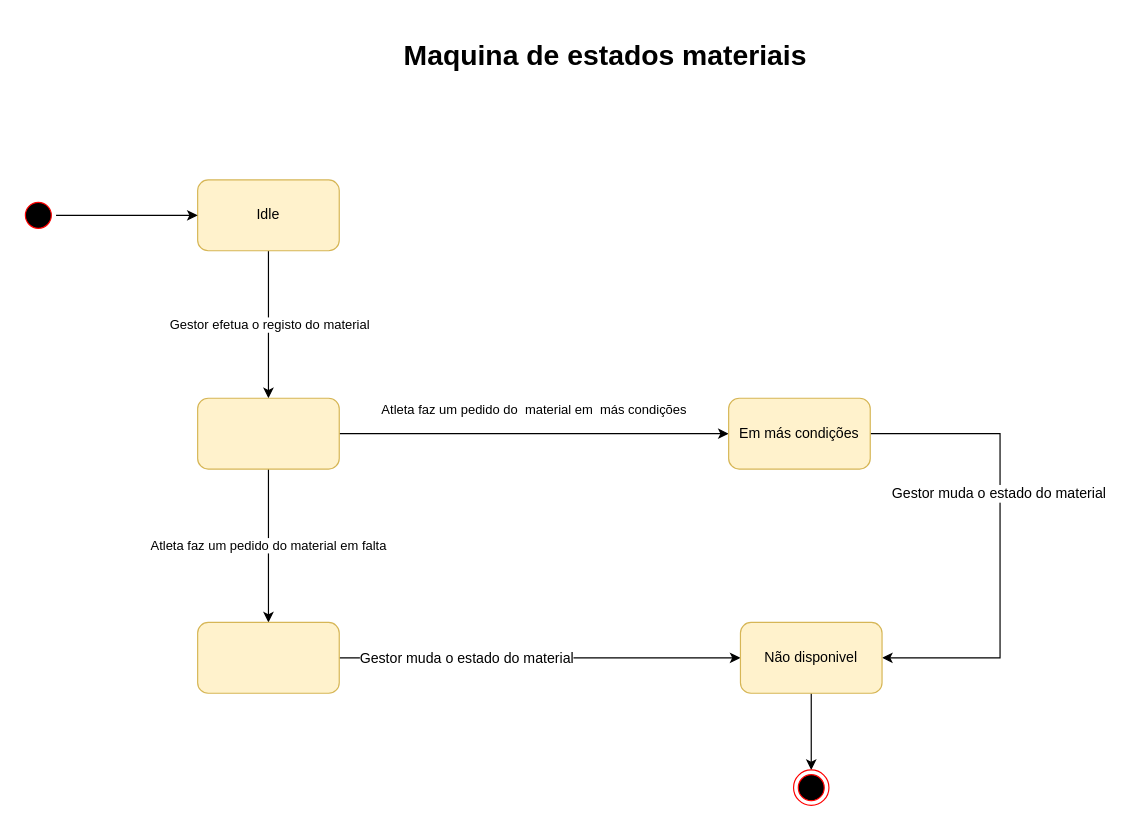
Some shapes in this 1126 by 826 pixel diagram are drawn without their labels. The shapes that lost their labels are listed below. From the top down, each one's centre as x and y in pixels, then its label:
point (267, 433): Disponivel
point (267, 657): Em falta
